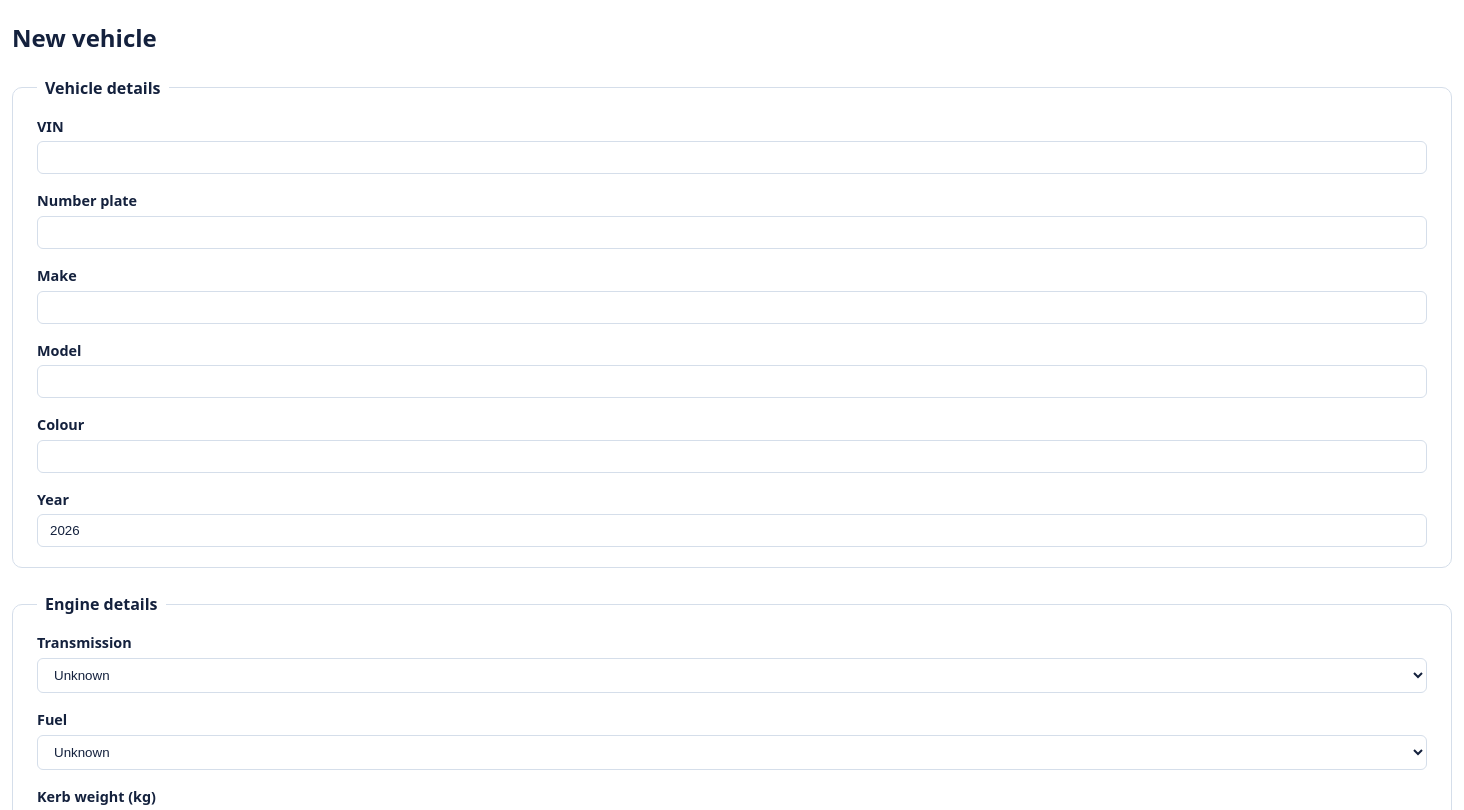
Scenario: creates the vehicle and navigates to it, reading the id from Location
Type "WVWZZZ1KZAW000009" into the field labelled "VIN" at coordinates (732, 158), box [37,141,1427,174]
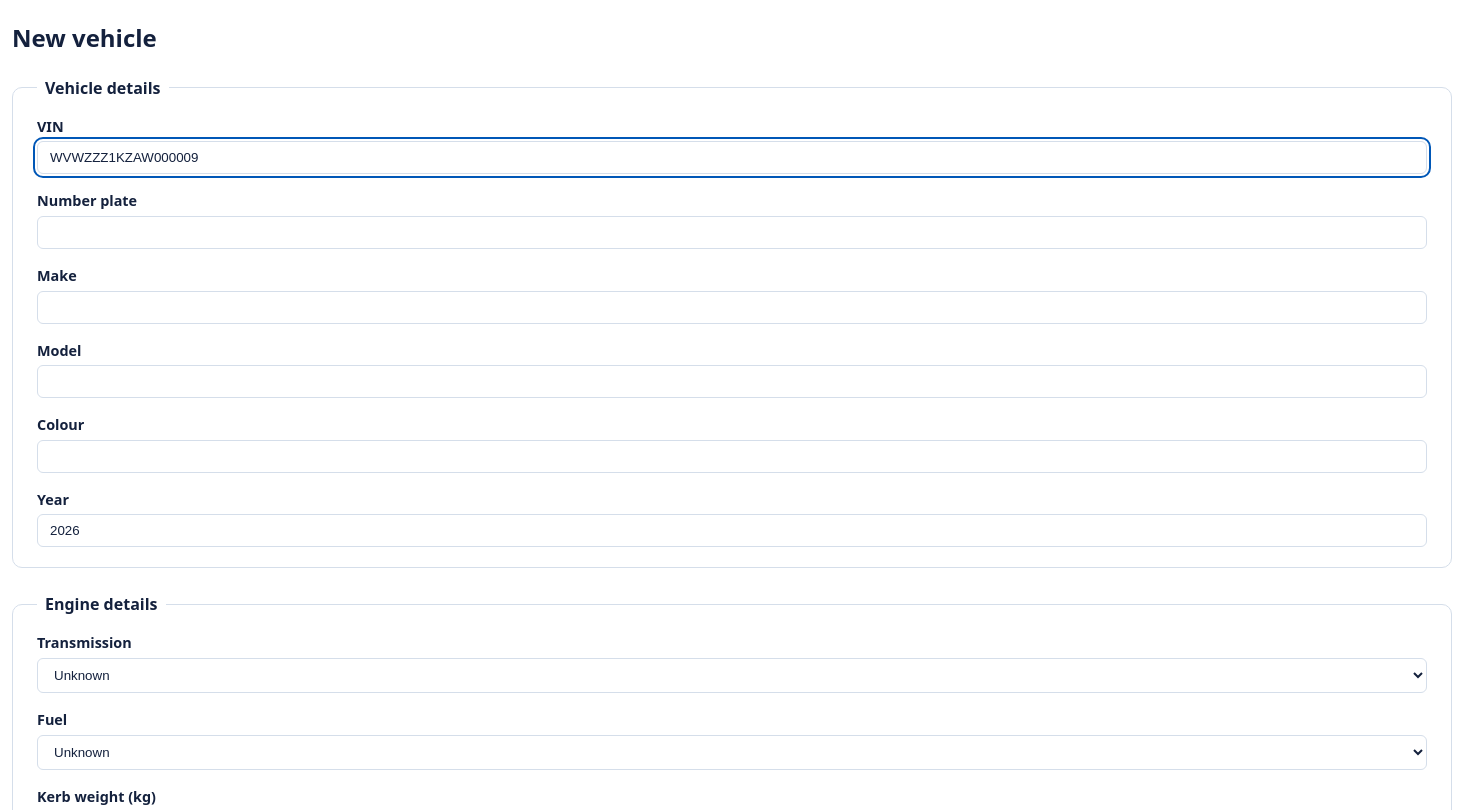
Type "AB12 CDE" into the field labelled "Number plate" at coordinates (732, 232), box [37,216,1427,249]
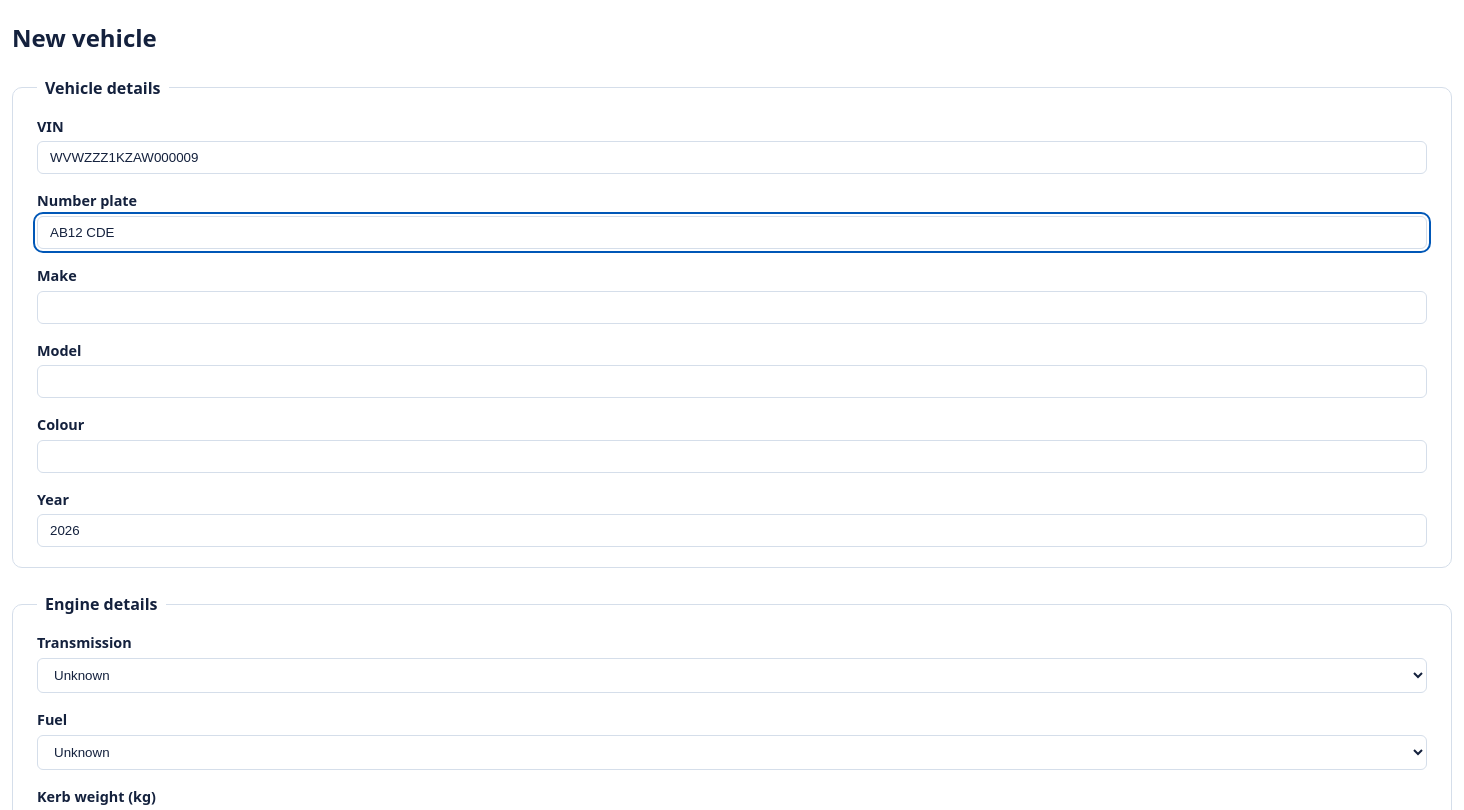
Replace the text in the number field labelled "Year" with "2016" at coordinates (732, 531), box [37,514,1427,548]
(page scrolled)
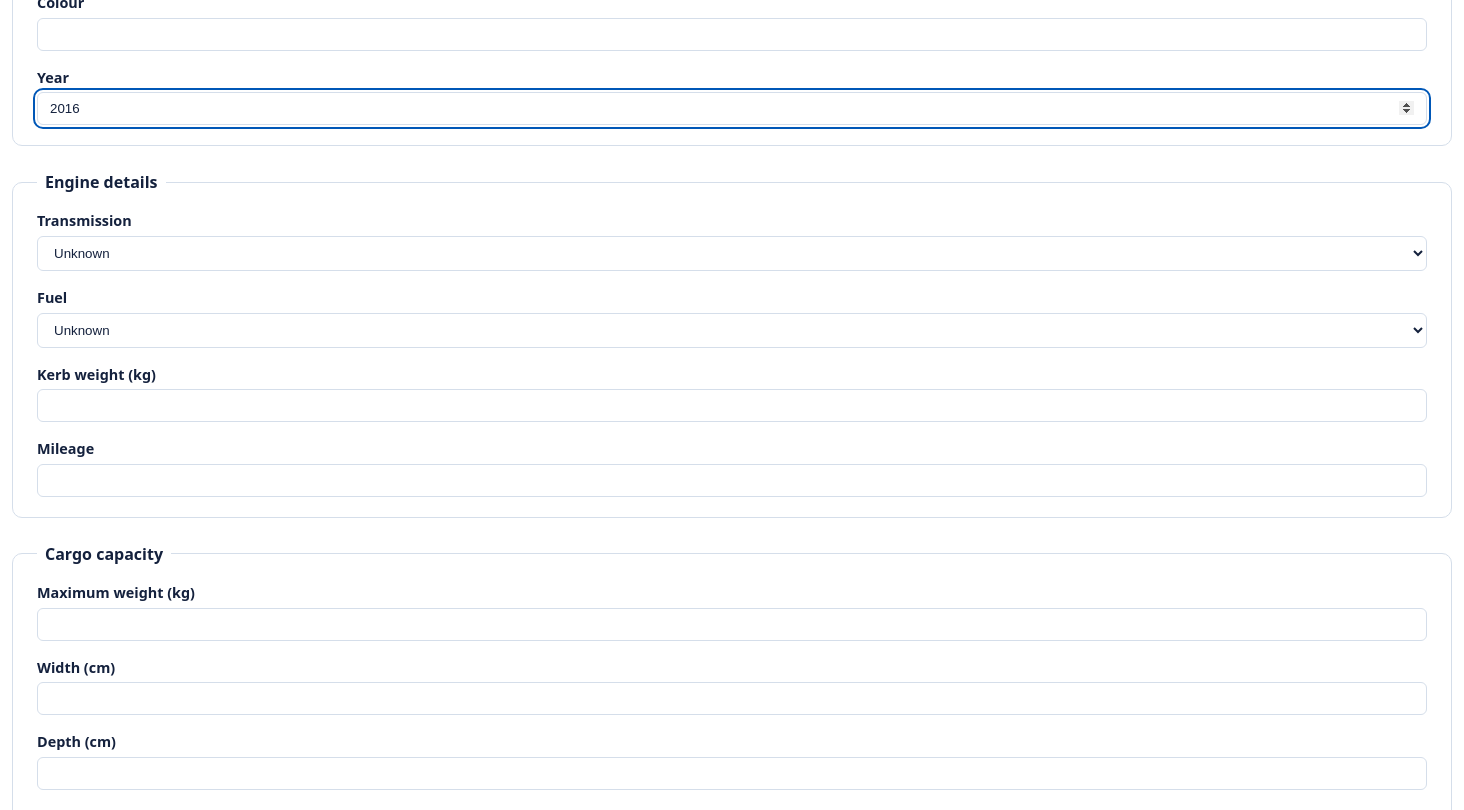
Type "1900" into the number field labelled "Kerb weight (kg)" at coordinates (732, 406), box [37,389,1427,422]
(page scrolled)
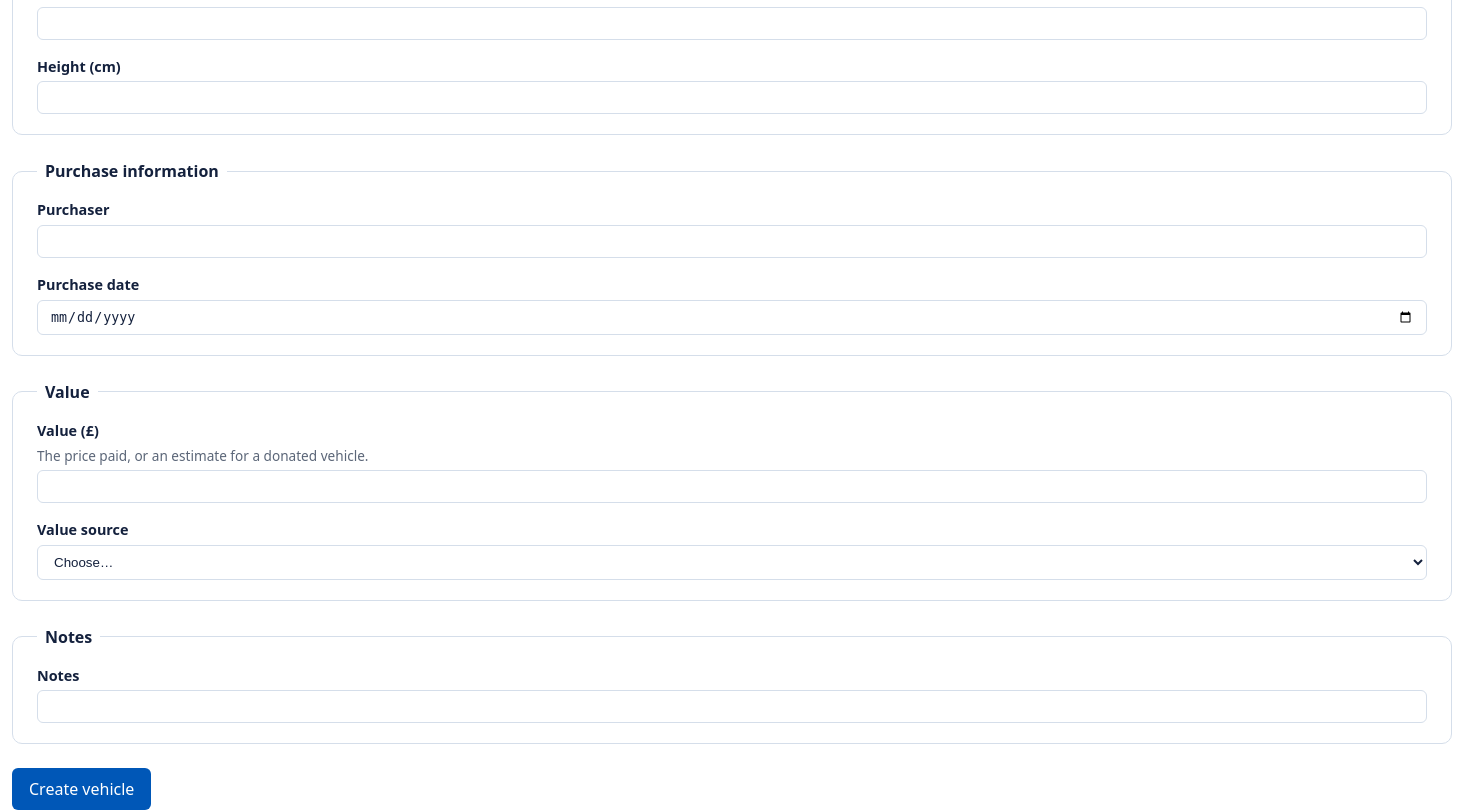
Click the button "Create vehicle" at coordinates (82, 789), box [12,768,151,809]
(page scrolled)
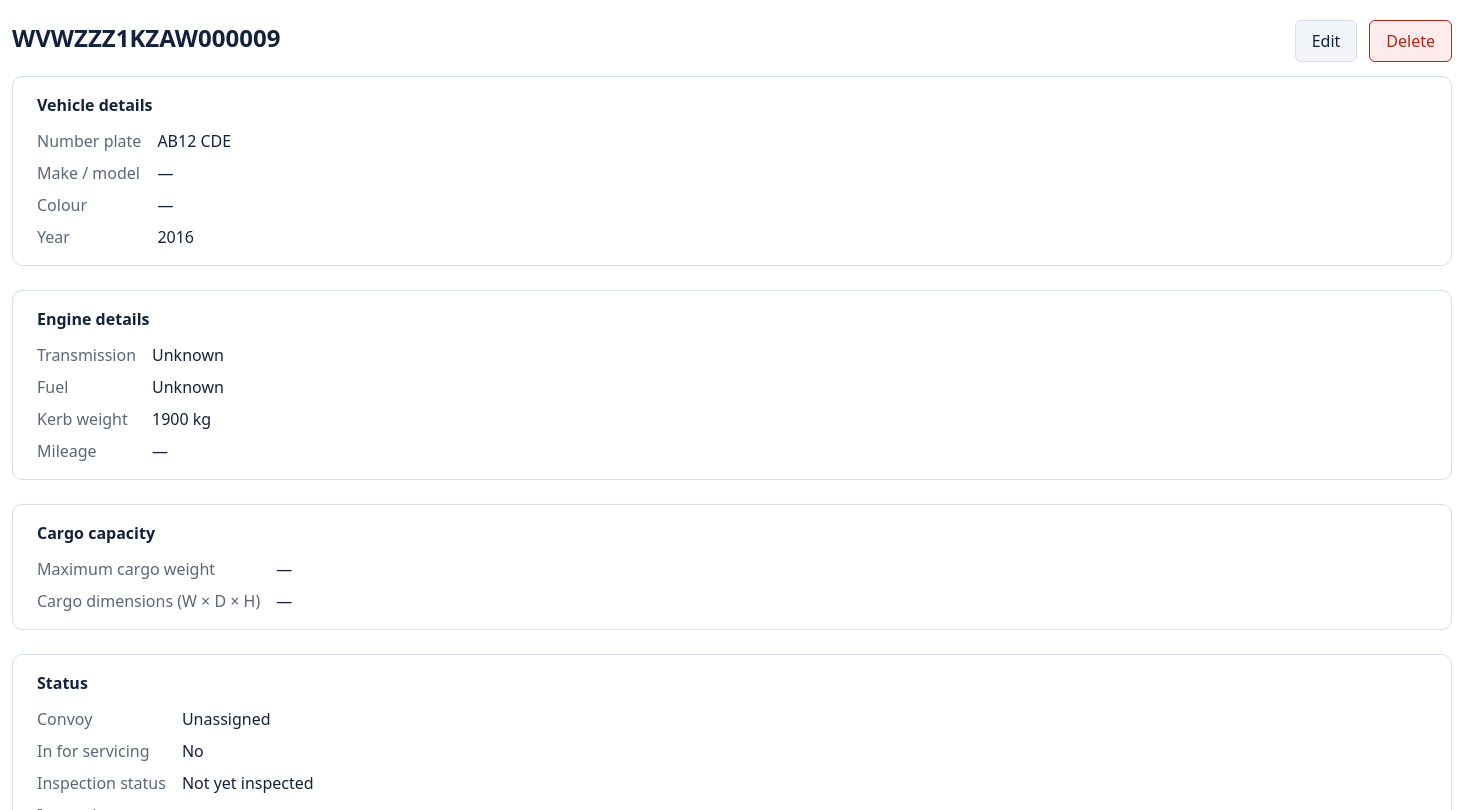
Expected: the heading "WVWZZZ1KZAW000009" is shown, [12,20,280,56]
